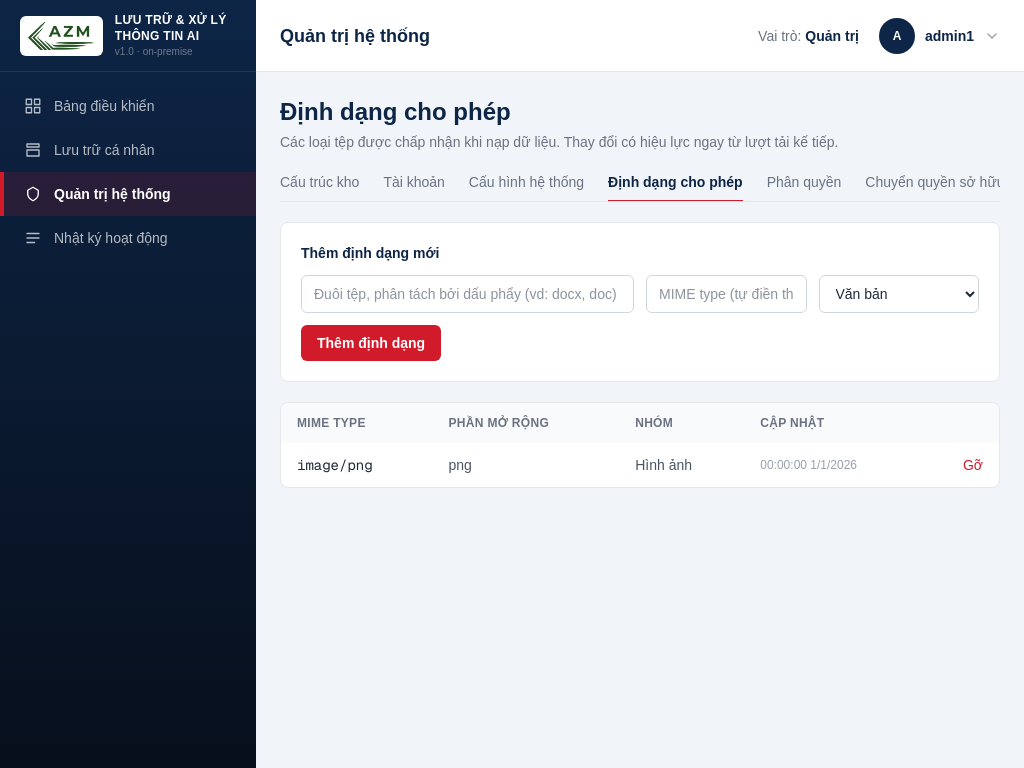
Test: AllowedFormatsPage › removes an allowed format
Check: the text "image/png" is shown, box [281,443,432,487]
Click the button "Gỡ".
click(973, 465)  # box [963,455,983,475]
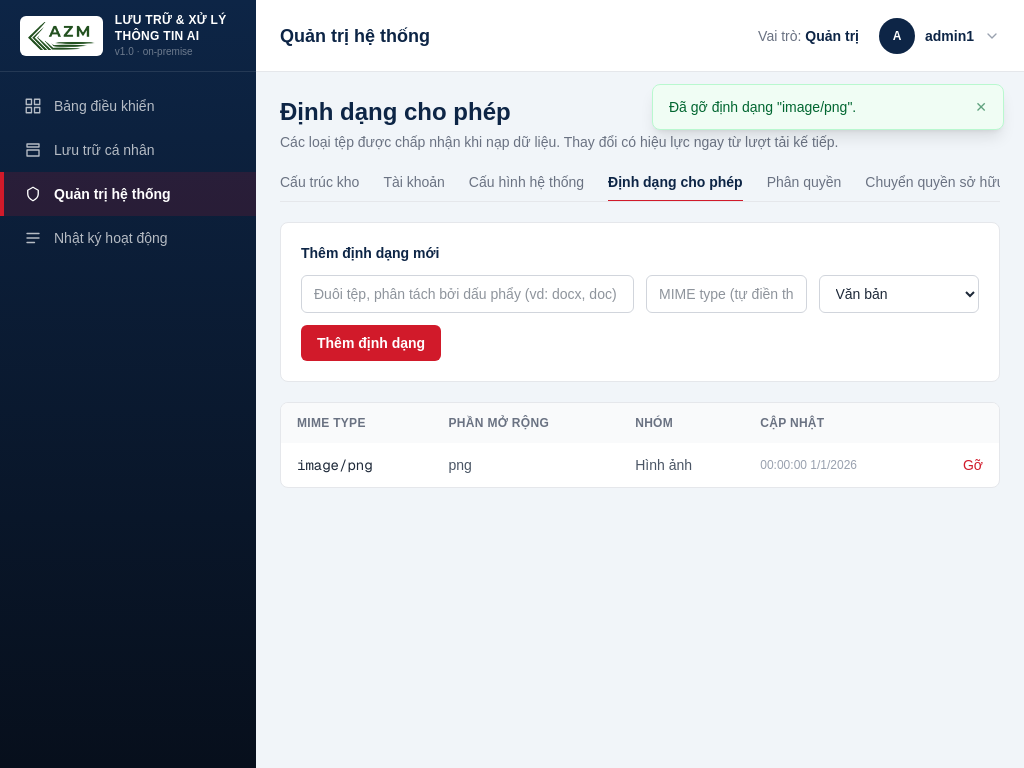
Check: the text "Đã gỡ định dạng \"image/png\"." is shown, box [669,99,856,115]
